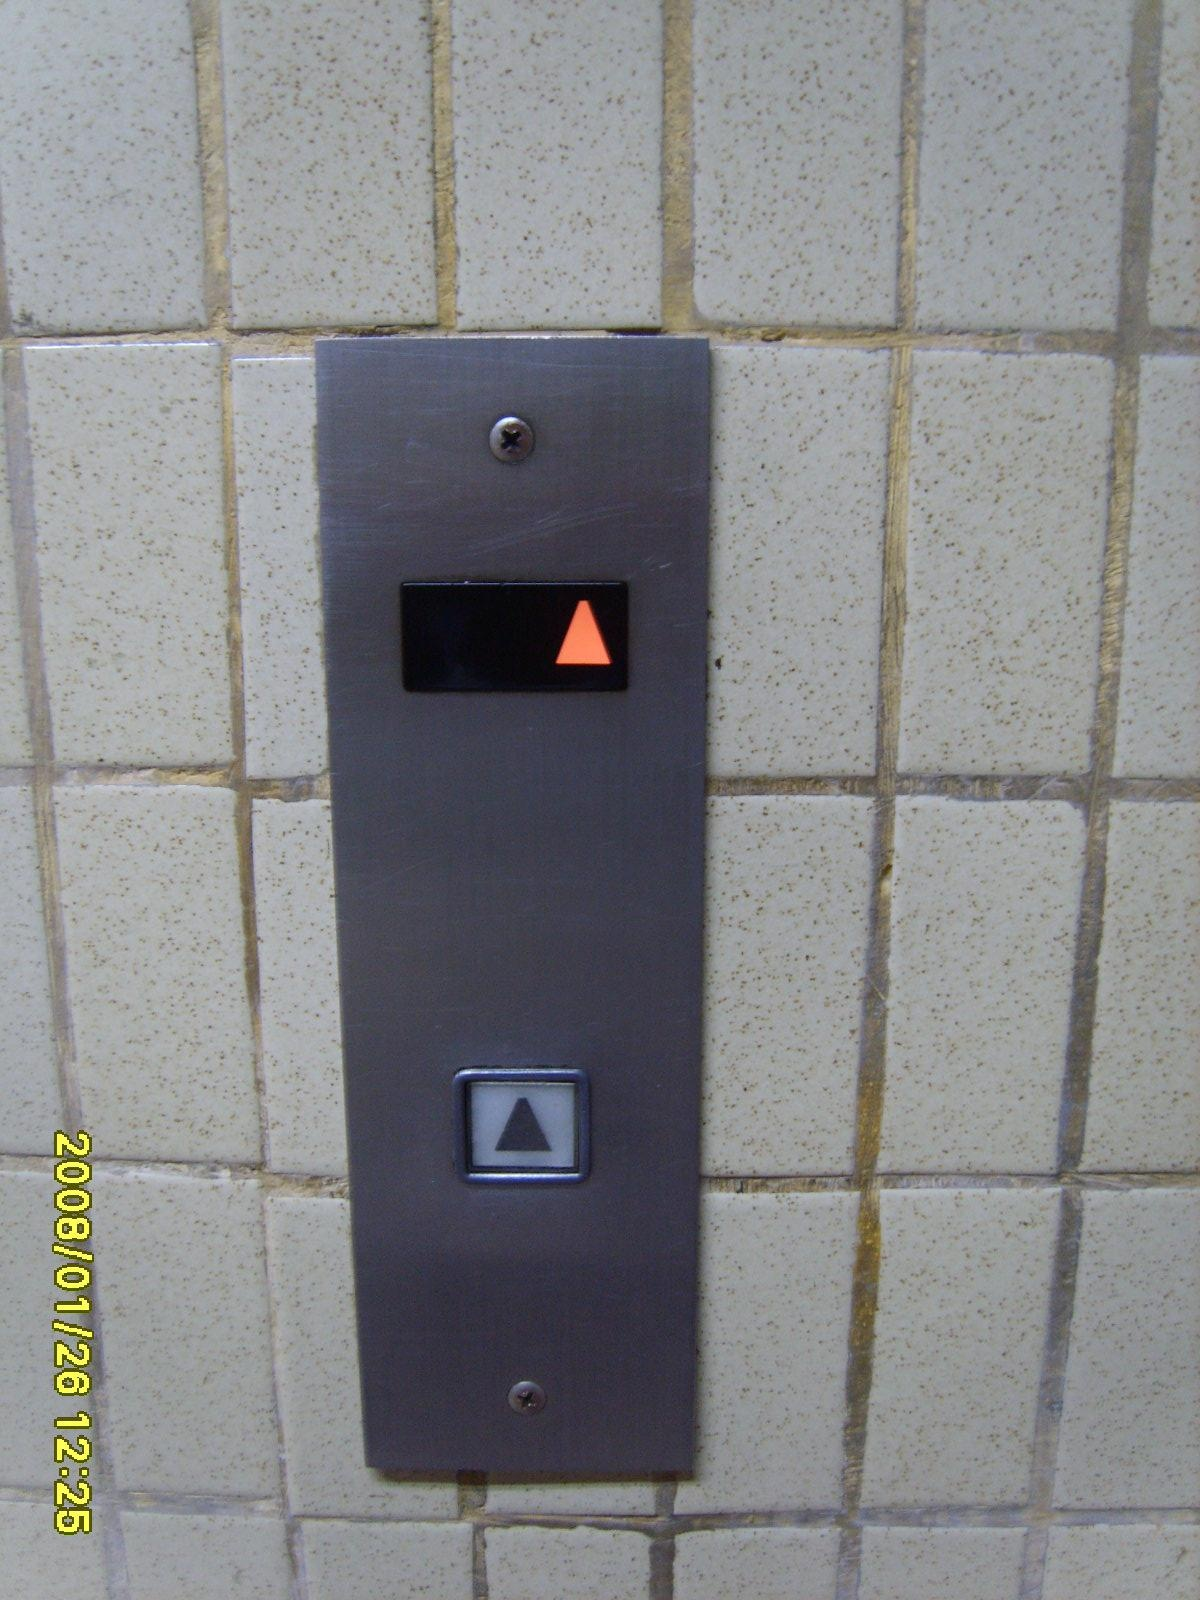led: (395, 571, 635, 700)
up: (442, 1057, 596, 1192)
